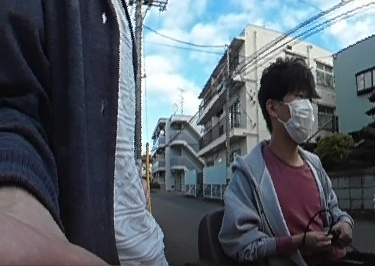person: (237, 59, 342, 266)
